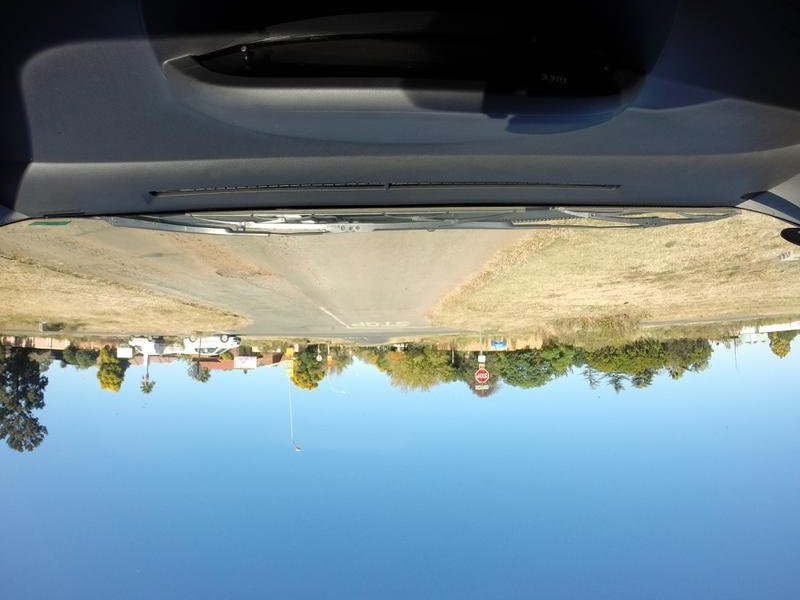pothole: (81, 250, 158, 273), (208, 265, 276, 282), (168, 238, 226, 252)
